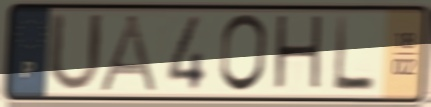4: (164, 12, 209, 94)
A: (95, 12, 164, 95)
H: (270, 12, 326, 96)
L: (331, 14, 378, 94)
O: (217, 11, 270, 96)
U: (45, 9, 107, 96)
